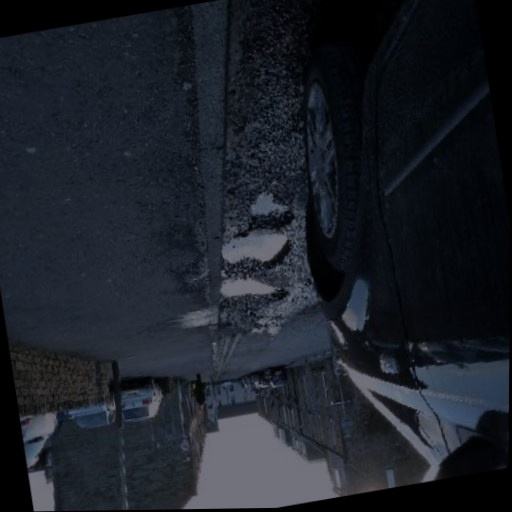pothole: (217, 228, 292, 277), (215, 266, 290, 315), (243, 188, 294, 232)
